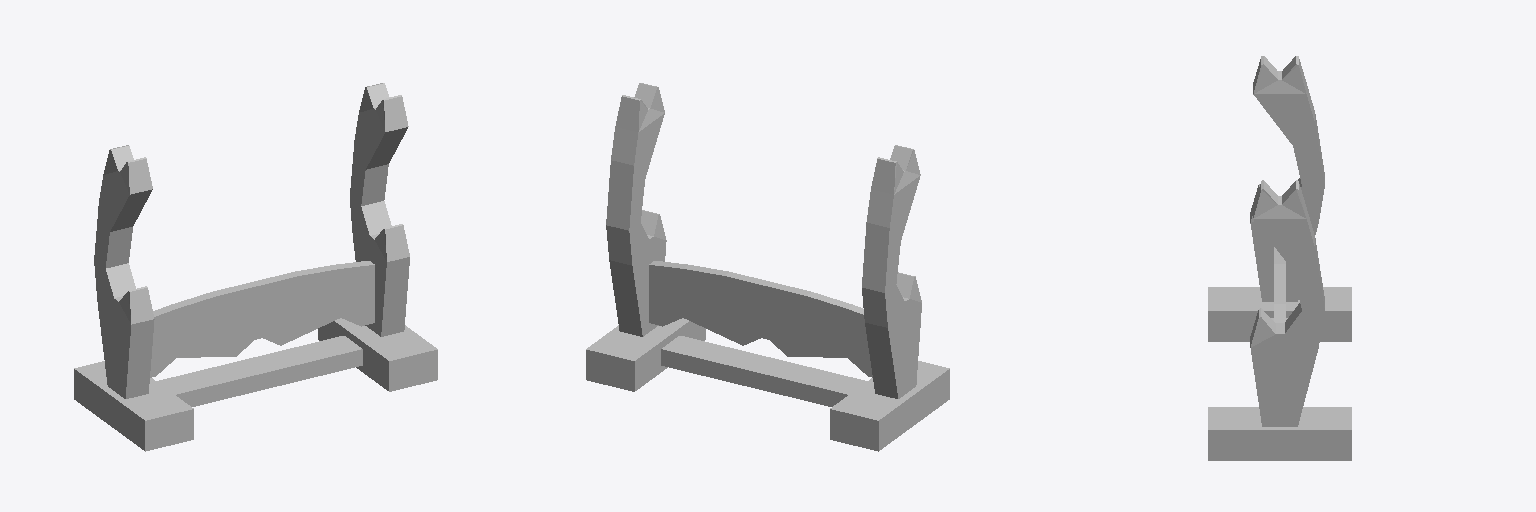
File: stand_2.obj
The picture shows the model from 3 angles: view 1: azimuth 30°, elevation 25°; view 2: azimuth 150°, elevation 25°; view 3: azimuth 270°, elevation 25°; orthographic projection.
Visible parts, largest first — view 1: q_S_2; view 2: q_S_2; view 3: q_S_2.
Boxes of the visible parts, box(x1,y1,x2,y2) form: q_S_2: box(74, 83, 437, 451); q_S_2: box(586, 83, 949, 451); q_S_2: box(1208, 56, 1351, 460).
Bounding box in the file's own units: 0.7873 × 0.6871 × 0.3333.